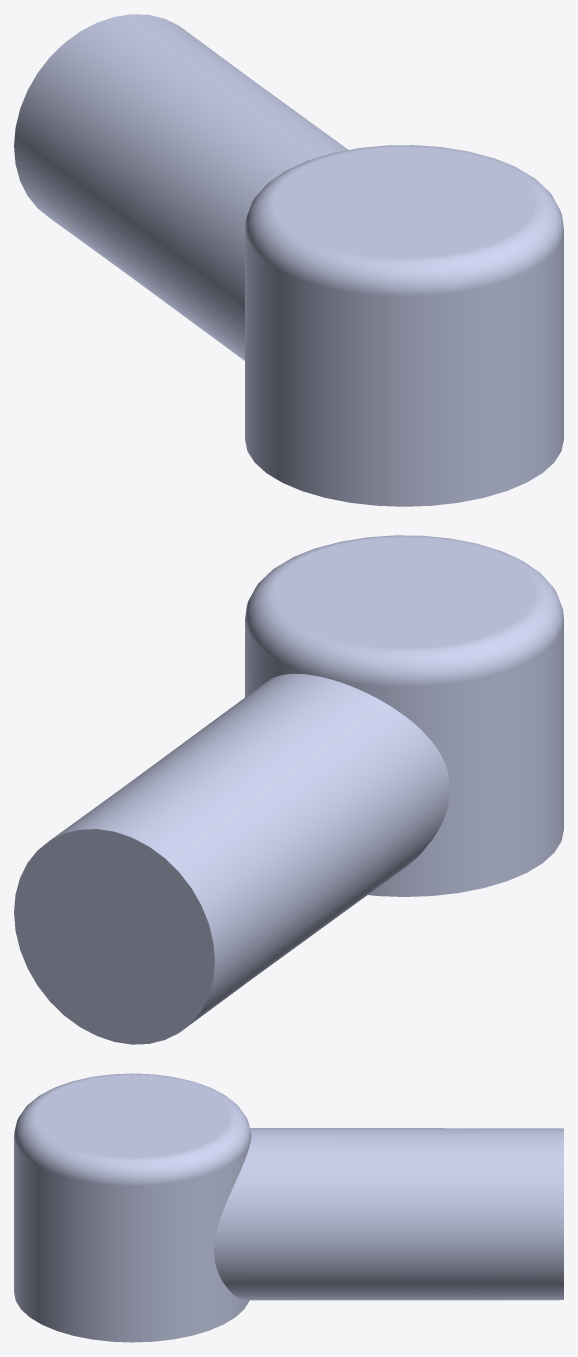
The picture shows the model from 3 angles, top to bottom: view 1: azimuth 30°, elevation 25°; view 2: azimuth 150°, elevation 25°; view 3: azimuth 270°, elevation 25°; orthographic projection. The views are drawn at different scales.
Visible parts, largest first — view 1: Link-2; view 2: Link-2; view 3: Link-2.
Part boxes in pixels (x1=…): Link-2: x1=14, y1=14, x2=563, y2=506; Link-2: x1=14, y1=535, x2=563, y2=1044; Link-2: x1=14, y1=1073, x2=563, y2=1342.
Bounding box in the file's own units: 0.11 × 0.095 × 0.255.
